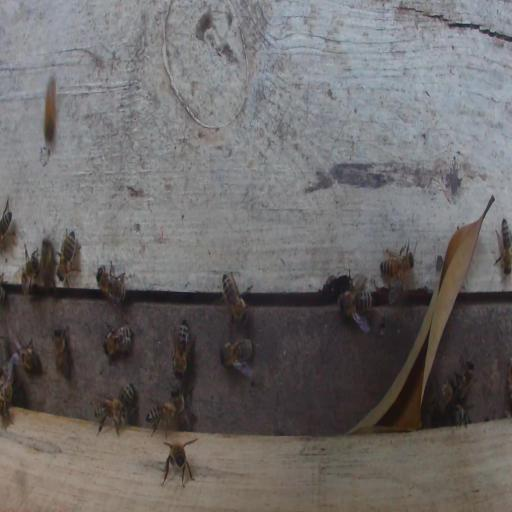bee: (161, 435, 198, 489), (221, 271, 252, 326), (96, 261, 127, 305), (57, 228, 80, 286), (337, 286, 374, 322), (95, 396, 127, 437), (173, 320, 194, 377), (494, 216, 512, 278), (220, 338, 254, 368), (104, 325, 134, 358), (170, 387, 192, 431), (53, 326, 71, 379), (380, 252, 415, 279), (44, 74, 56, 145), (454, 358, 474, 400), (0, 361, 14, 420), (41, 238, 57, 289), (147, 403, 177, 427), (20, 258, 39, 295), (20, 338, 39, 374), (0, 197, 13, 249), (118, 383, 137, 415), (452, 403, 472, 428), (441, 377, 454, 414)
